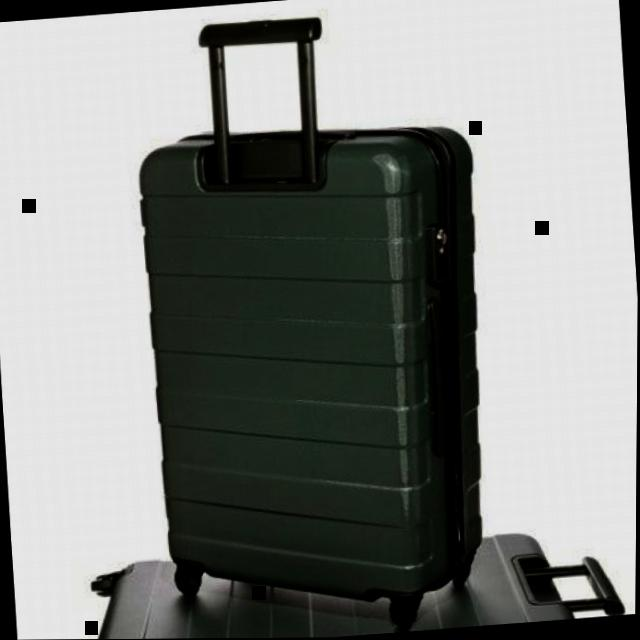luggage: (123, 99, 513, 637)
